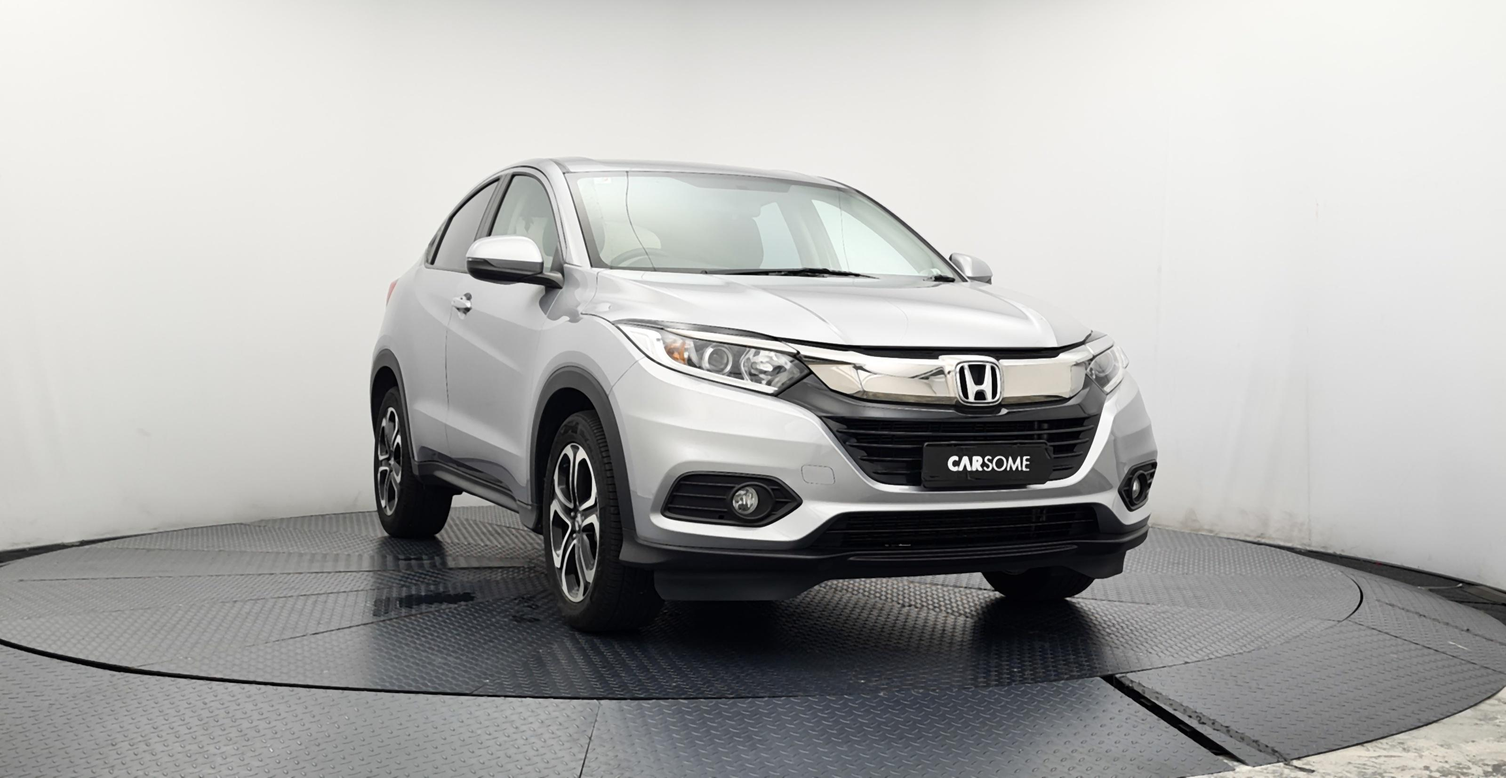Car hood: (571, 260, 1106, 365)
Driver-s door - -F-R-: (448, 159, 579, 506)
Fender - -F-R-: (533, 264, 648, 436)
Front bumper: (599, 354, 1165, 614)
Headlight - -L-: (1079, 339, 1133, 394)
Headlight - -R-: (610, 317, 814, 398)
Passenger-s door - -R-R-: (391, 161, 510, 494)
Side bumper - -R-: (410, 427, 545, 542)
Side mirror - -L-: (947, 252, 999, 287)
Side mirror - -R-: (462, 235, 550, 285)
